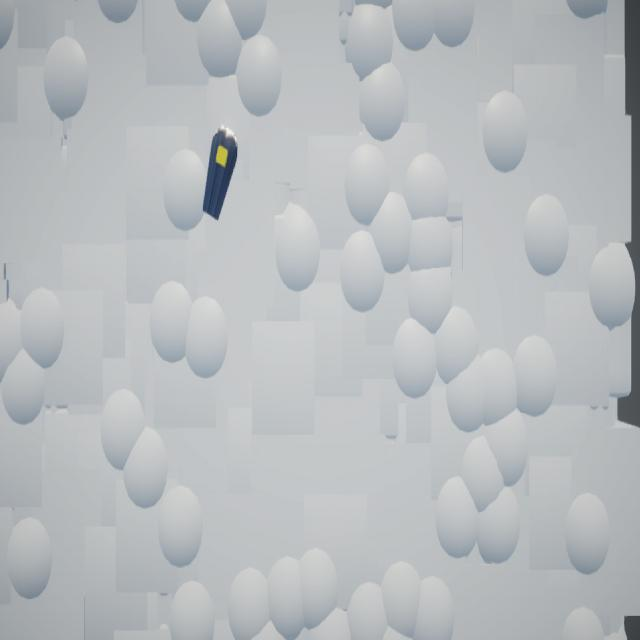handle_folk: (204, 128, 239, 222)
